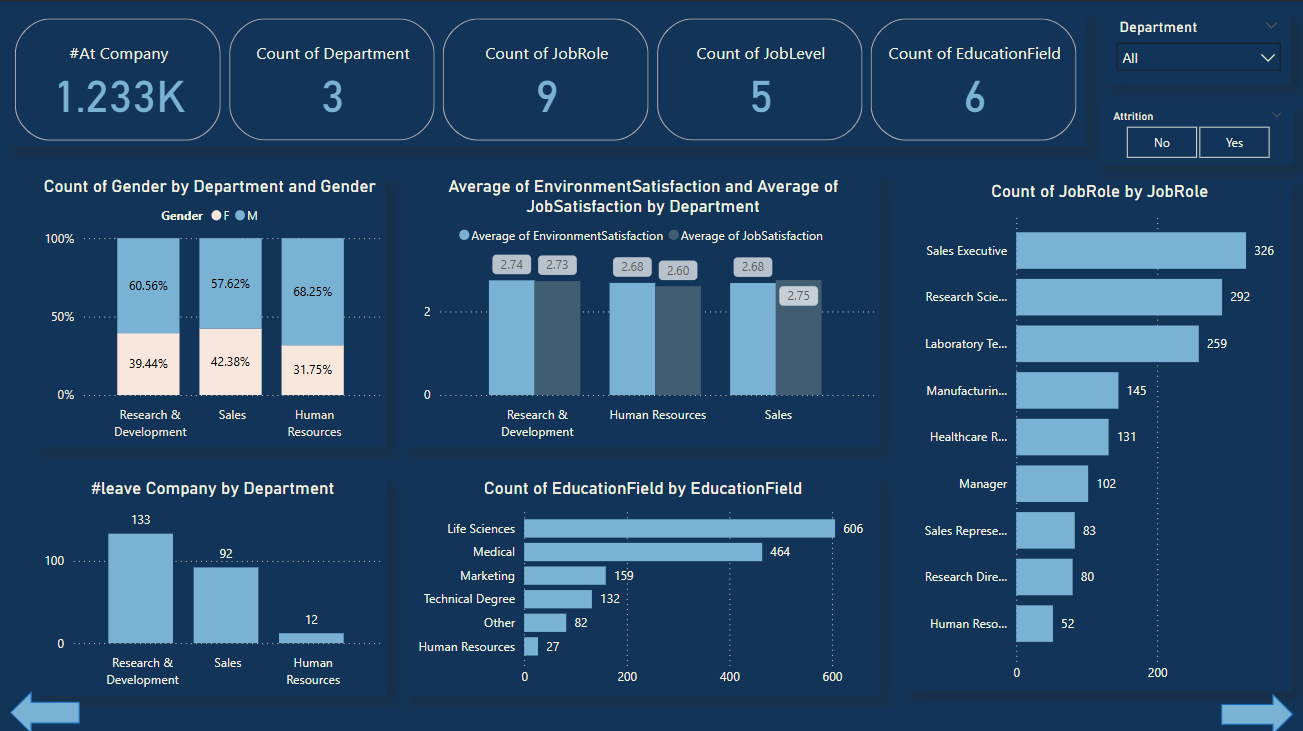

Layout of this report page (visuals, bound fields, positions):
{"tool":"powerbi","page":{"name":"Department","canvas":[1280,720],"ordinal":2},"visuals":[{"type":"cardVisual","fields":{"Data":["hr data.At Company","Count(hr data.Department)","Count(hr data.JobRole)","Count(hr data.JobLevel)","Count(hr data.EducationField)"]},"box":[9.6,12.3,1056.6,130.4],"z":0},{"type":"slicer","fields":{"Values":["hr data.Department"]},"box":[1085.4,12.3,181.1,70],"z":1},{"type":"slicer","fields":{"Values":["hr data.Attrition"]},"box":[1079.9,101.5,190.7,59],"z":2},{"type":"hundredPercentStackedColumnChart","fields":{"Y":["CountNonNull(hr data.Gender)"],"Category":["hr data.Department"],"Series":["hr data.Gender"]},"box":[38.4,171.5,340.3,266.2],"z":3},{"type":"barChart","fields":{"Category":["hr data.EducationField"],"Y":["CountNonNull(hr data.EducationField)"]},"box":[399.3,467.9,465.2,214.1],"z":4},{"type":"columnChart","fields":{"Category":["hr data.Department"],"Y":["hr data.#leave Company"]},"box":[38.4,467.9,341.7,214.1],"z":5},{"type":"lineClusteredColumnComboChart","fields":{"Category":["hr data.Department"],"Y":["Avg(hr data.EnvironmentSatisfaction)","Avg(hr data.JobSatisfaction)"]},"box":[399.3,171.5,465.2,266.2],"z":6},{"type":"barChart","fields":{"Category":["hr data.JobRole"],"Y":["CountNonNull(hr data.JobRole)"]},"box":[890.6,177,377.4,500.9],"z":7},{"type":"shape","box":[1199.3,679.2,71.4,41.2],"z":8},{"type":"shape","box":[9.6,677.9,68.6,42.5],"z":9}]}

Visuals, with their boxes in screenshot pixels (x1, y1, x2, y2), scaled from the page's 1280x720 canvas onto the 1303x731 screenshot:
cardVisual - hr data.At Company x Count(hr data.Department): <bbox>10, 12, 1085, 145</bbox>
slicer - hr data.Department: <bbox>1105, 12, 1289, 84</bbox>
slicer - hr data.Attrition: <bbox>1099, 103, 1293, 163</bbox>
hundredPercentStackedColumnChart - CountNonNull(hr data.Gender) x hr data.Department: <bbox>39, 174, 386, 444</bbox>
barChart - hr data.EducationField x CountNonNull(hr data.EducationField): <bbox>406, 475, 880, 692</bbox>
columnChart - hr data.Department x hr data.#leave Company: <bbox>39, 475, 387, 692</bbox>
lineClusteredColumnComboChart - hr data.Department x Avg(hr data.EnvironmentSatisfaction): <bbox>406, 174, 880, 444</bbox>
barChart - hr data.JobRole x CountNonNull(hr data.JobRole): <bbox>907, 180, 1291, 688</bbox>
shape: <bbox>1221, 690, 1294, 730</bbox>
shape: <bbox>10, 688, 80, 730</bbox>
